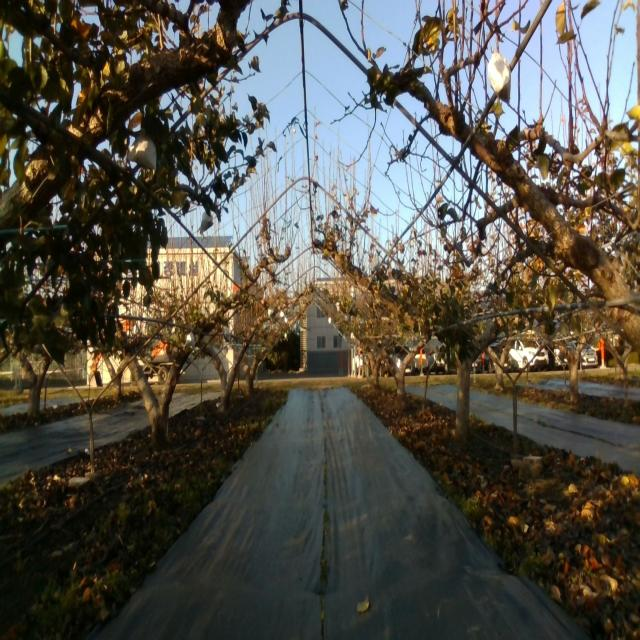pearbags: (487, 44, 511, 108), (127, 134, 157, 172), (200, 212, 213, 234), (184, 332, 195, 350)
